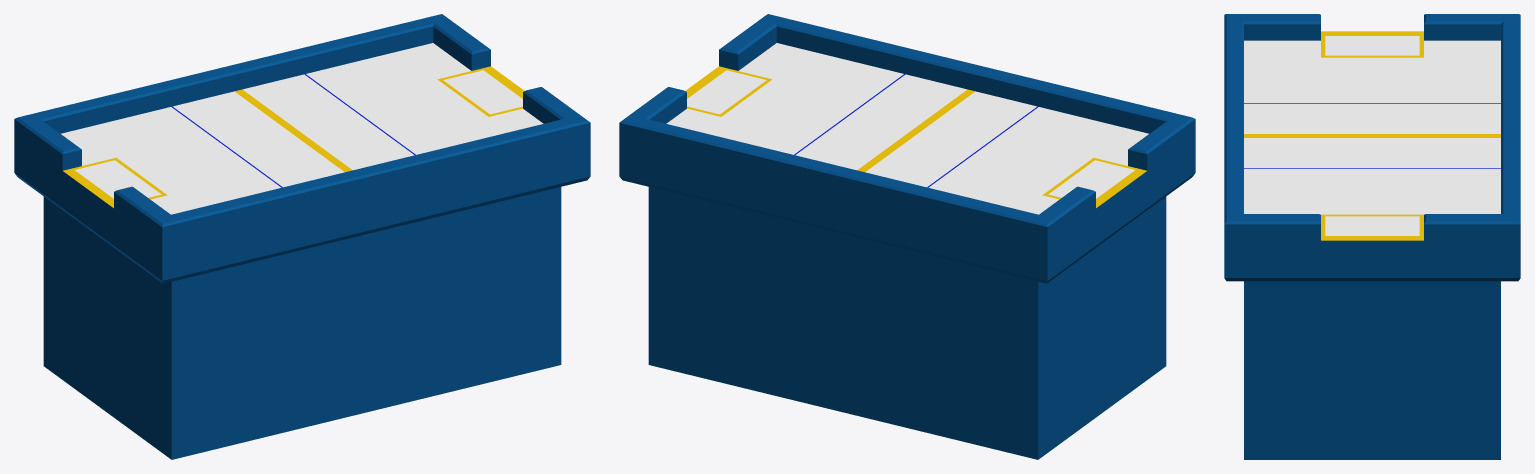
Rendered from AIR HOCKEY TABLE.fbx.
The picture shows the model from 3 angles, left to right: view 1: azimuth 30°, elevation 25°; view 2: azimuth 150°, elevation 25°; view 3: azimuth 270°, elevation 25°; orthographic projection.
Parts seen in each view (by area): view 1: Cube; view 2: Cube; view 3: Cube.
Boxes of the visible parts, left/top/right/bottom form: Cube: left=14, top=14, right=590, bottom=459; Cube: left=619, top=14, right=1195, bottom=459; Cube: left=1224, top=14, right=1520, bottom=459.
Size of the model in its own units: 2162 by 1188 by 1292.
